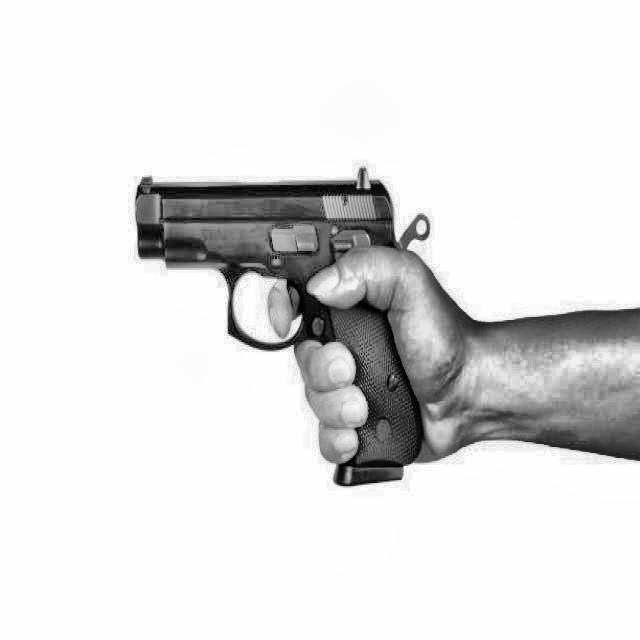pistol: (120, 161, 452, 505)
